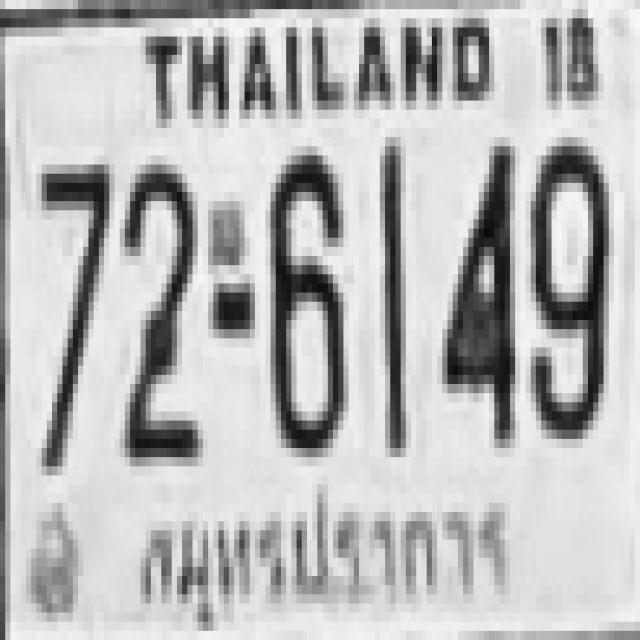1: (377, 137, 403, 448)
2: (120, 156, 192, 457)
4: (437, 137, 510, 439)
6: (268, 146, 341, 448)
7: (34, 156, 106, 467)
9: (526, 137, 604, 430)
SamutPrakan: (130, 482, 521, 640)
